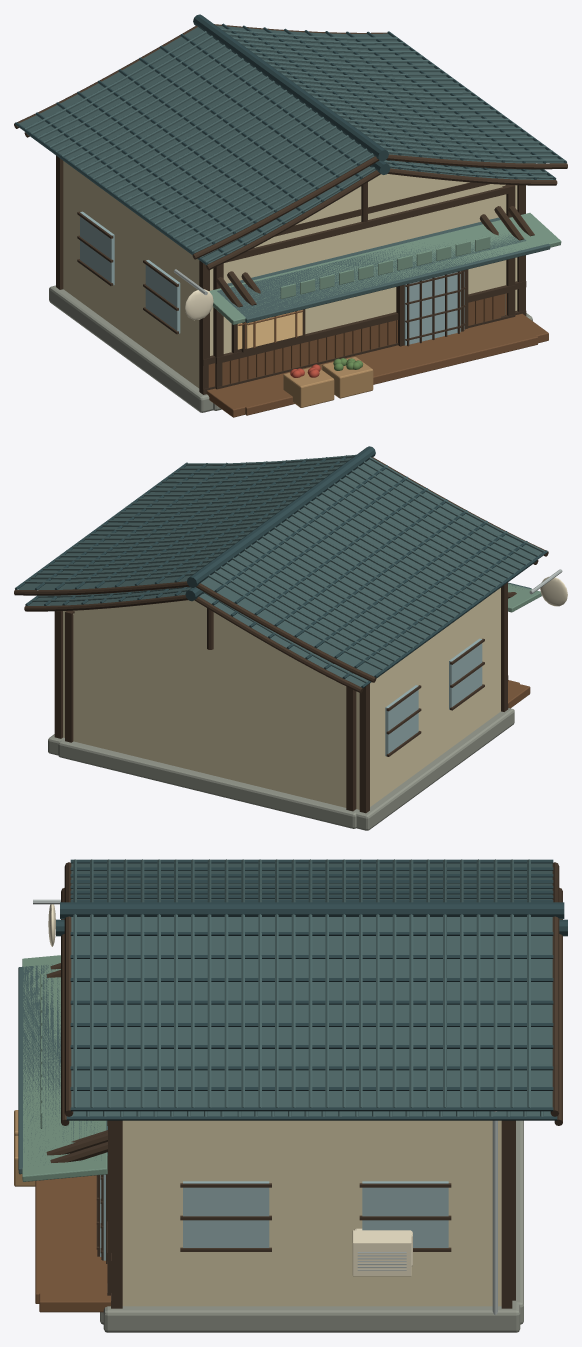
Rendered from village-kit.glb.
3 renders of one model, top to bottom at view 1: azimuth 30°, elevation 25°; view 2: azimuth 150°, elevation 25°; view 3: azimuth 270°, elevation 25°, orthographic. The views are drawn at different scales.
Visible parts, largest first — view 1: BLD_cafe__roof.007, BLD_cafe__plaster.007, BLD_shop__plaster.007, BLD_cafe__roof_dark.007, BLD_shop__wood_dark.007, BLD_cafe__wood_dark.007, BLD_shop__roof.007, BLD_cafe__cloth.007, BLD_shop__wood.007, BLD_cafe__wood.007, BLD_cafe__stone.007, BLD_cafe__glass.015 (+6 smaller); view 2: BLD_cafe__roof.007, BLD_shop__plaster.007, BLD_cafe__plaster.007, BLD_cafe__roof_dark.007, BLD_cafe__wood_dark.007, BLD_shop__stone.007, BLD_shop__wood_dark.007, BLD_cafe__stone.007, BLD_cafe__glass.015, BLD_shop__roof.007, BLD_shop__roof_dark.007, BLD_cafe__cream.007 (+1 smaller); view 3: BLD_cafe__roof.007, BLD_cafe__plaster.007, BLD_cafe__roof_dark.007, BLD_cafe__wood_dark.007, BLD_cafe__stone.007, BLD_cafe__glass.015, BLD_cafe__cloth.007, BLD_shop__roof.007, BLD_cafe__wood.007, BLD_shop__wood_dark.007, BLD_home__wood.007, BLD_cafe__cream.007 (+4 smaller).
Boxes of the visible parts, x1,y1,x2,y2 form: BLD_cafe__roof.007: (19,25,564,252); BLD_cafe__plaster.007: (63,161,517,388); BLD_shop__plaster.007: (223,174,506,353); BLD_cafe__roof_dark.007: (15,14,566,254); BLD_shop__wood_dark.007: (24,132,557,389); BLD_cafe__wood_dark.007: (14,24,567,394); BLD_shop__roof.007: (200,160,553,323); BLD_cafe__cloth.007: (209,213,561,324); BLD_shop__wood.007: (222,295,537,415); BLD_cafe__wood.007: (206,293,548,417); BLD_cafe__stone.007: (49,285,532,412); BLD_cafe__glass.015: (80,211,464,333); BLD_cafe__roof.007: (18,454,545,676); BLD_shop__plaster.007: (73,600,346,807); BLD_cafe__plaster.007: (63,588,500,809); BLD_cafe__roof_dark.007: (15,446,547,677); BLD_cafe__wood_dark.007: (14,457,548,813); BLD_shop__stone.007: (58,739,358,828); BLD_shop__wood_dark.007: (24,560,538,811); BLD_cafe__stone.007: (48,708,514,830); BLD_cafe__glass.015: (385,638,482,756); BLD_shop__roof.007: (28,582,531,686); BLD_shop__roof_dark.007: (25,560,537,687); BLD_cafe__cream.007: (540,576,567,606); BLD_cafe__roof.007: (71,859,552,1107); BLD_cafe__plaster.007: (122,1120,501,1306); BLD_cafe__roof_dark.007: (60,859,564,1111); BLD_cafe__wood_dark.007: (50,862,559,1308); BLD_cafe__stone.007: (103,1122,520,1332); BLD_cafe__glass.015: (103,1174,448,1260); BLD_cafe__cloth.007: (22,955,107,1181); BLD_shop__roof.007: (18,964,552,1174); BLD_cafe__wood.007: (39,1176,110,1312); BLD_shop__wood_dark.007: (46,888,562,1300); BLD_home__wood.007: (59,1175,107,1283); BLD_cafe__cream.007: (48,904,411,1276).
Size of the model in its own units: 8 by 4.62 by 7.25.
